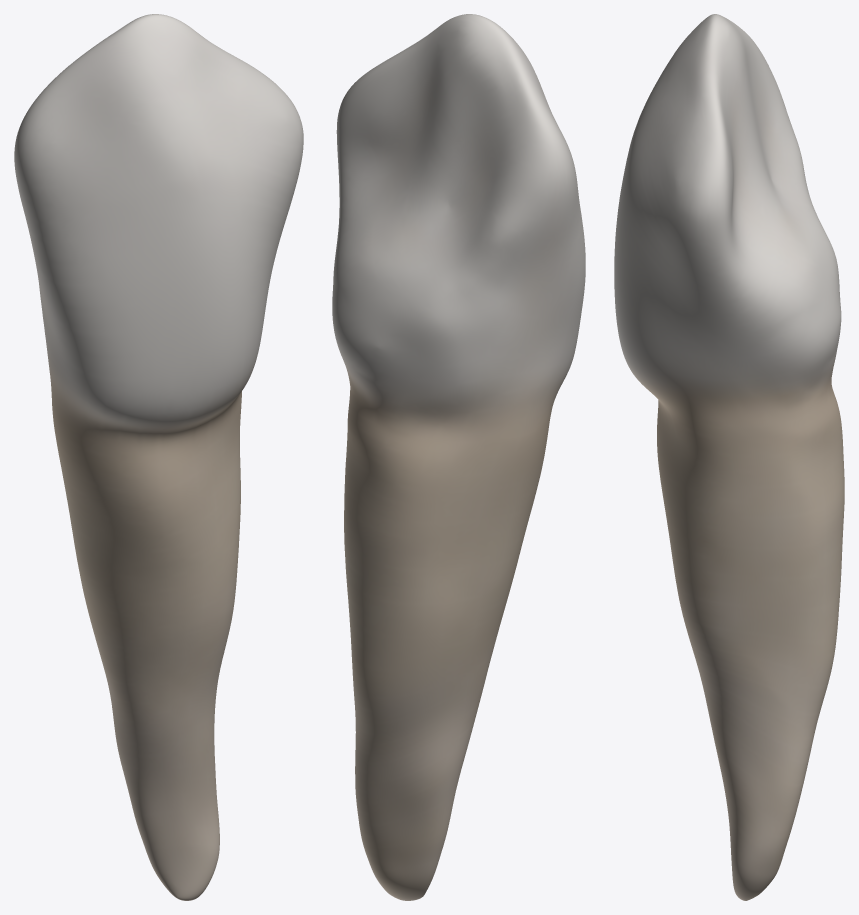
3 views of the same model, side by side, from view 1: azimuth 30°, elevation 25°; view 2: azimuth 150°, elevation 25°; view 3: azimuth 270°, elevation 25° (orthographic). The views are drawn at different scales.
Parts seen in each view (by area): view 1: diente-73; view 2: diente-73; view 3: diente-73.
Boxes of the visible parts, x1,y1,x2,y2 form: diente-73: (14, 14, 303, 900); diente-73: (332, 14, 585, 900); diente-73: (614, 14, 844, 900).
Bounding box in the file's own units: 0.00519 × 0.0175 × 0.00428.
